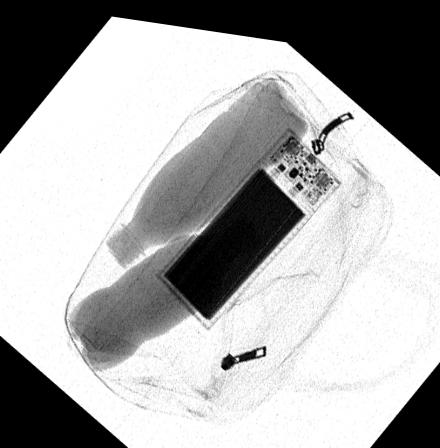Powerbank: (155, 117, 341, 323)
